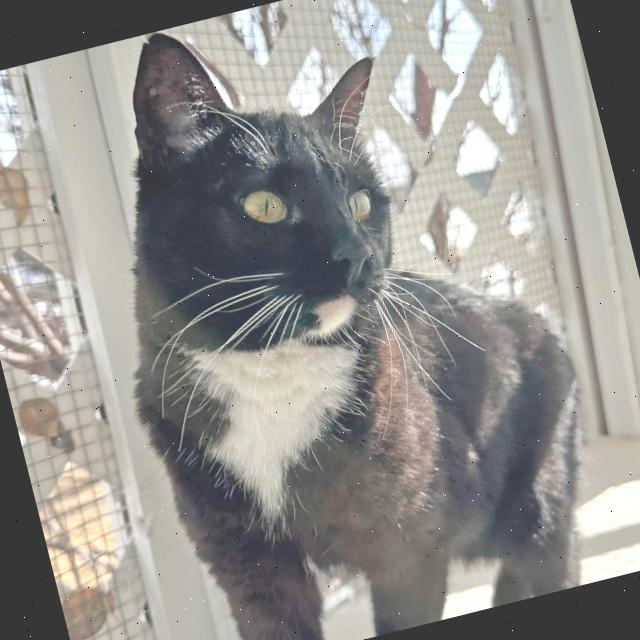manx_cat: (53, 0, 462, 408)
